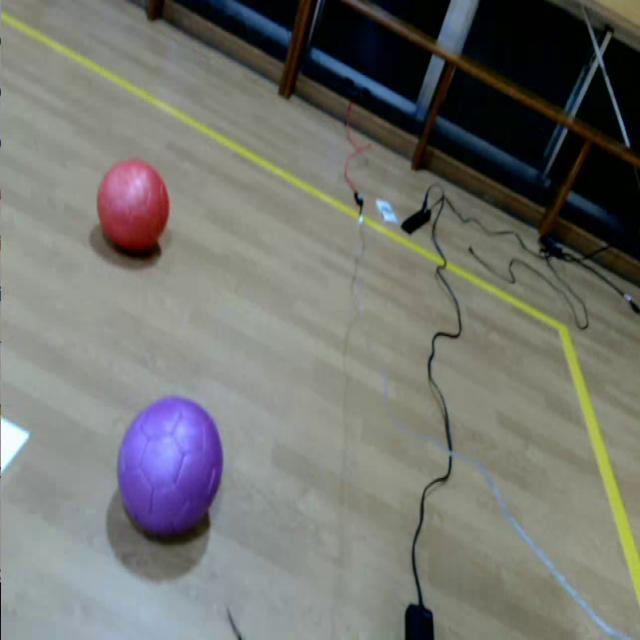purple_ball: (118, 396, 224, 532)
red_ball: (98, 156, 169, 249)
